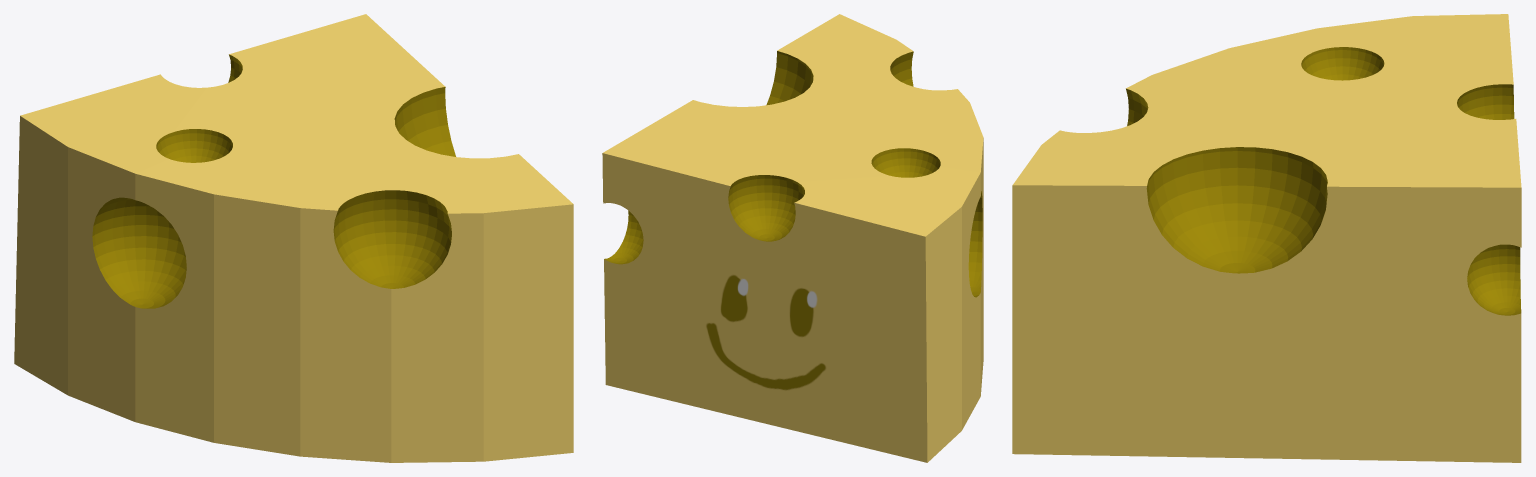
File: cheesemon.glb
3 views of the same model, side by side, from view 1: azimuth 30°, elevation 25°; view 2: azimuth 150°, elevation 25°; view 3: azimuth 270°, elevation 25° (orthographic). The views are drawn at different scales.
Visible parts, largest first — view 1: Cylinder; view 2: Cylinder; view 3: Cylinder.
Part boxes in pixels (x1,y1,x2,y2): Cylinder: [14, 14, 573, 462]; Cylinder: [602, 14, 983, 462]; Cylinder: [1012, 14, 1521, 462].
Size of the model in its own units: 0.8727 by 0.6084 by 0.9987.
1 material, 1 textured.
